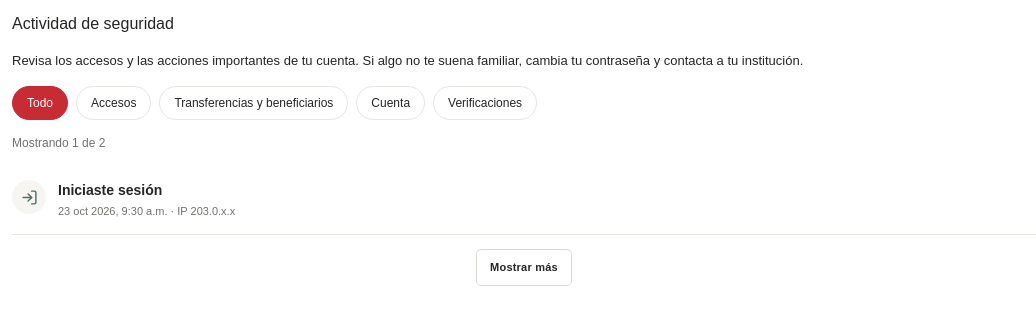
Test: ActivityFeed › shows more when there is more, and then stops offering it
Click the button "Mostrar más": (524, 267) [476, 249, 572, 286]
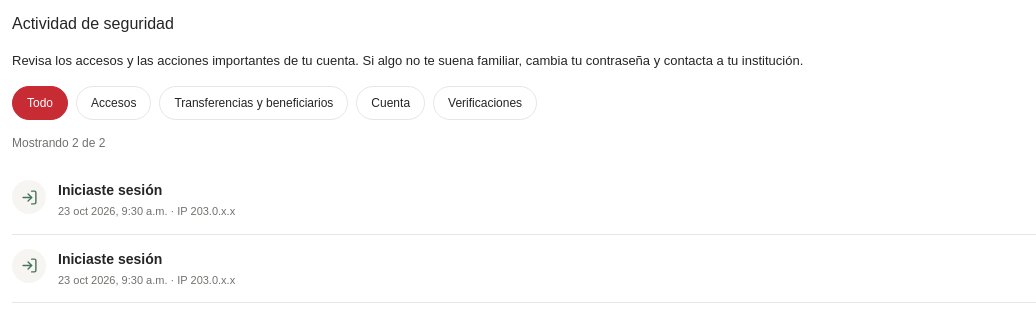
Expected: the number of list items is 2, [12, 166, 1035, 235]; [12, 235, 1035, 303]
Expected: the button "Mostrar más" is gone
